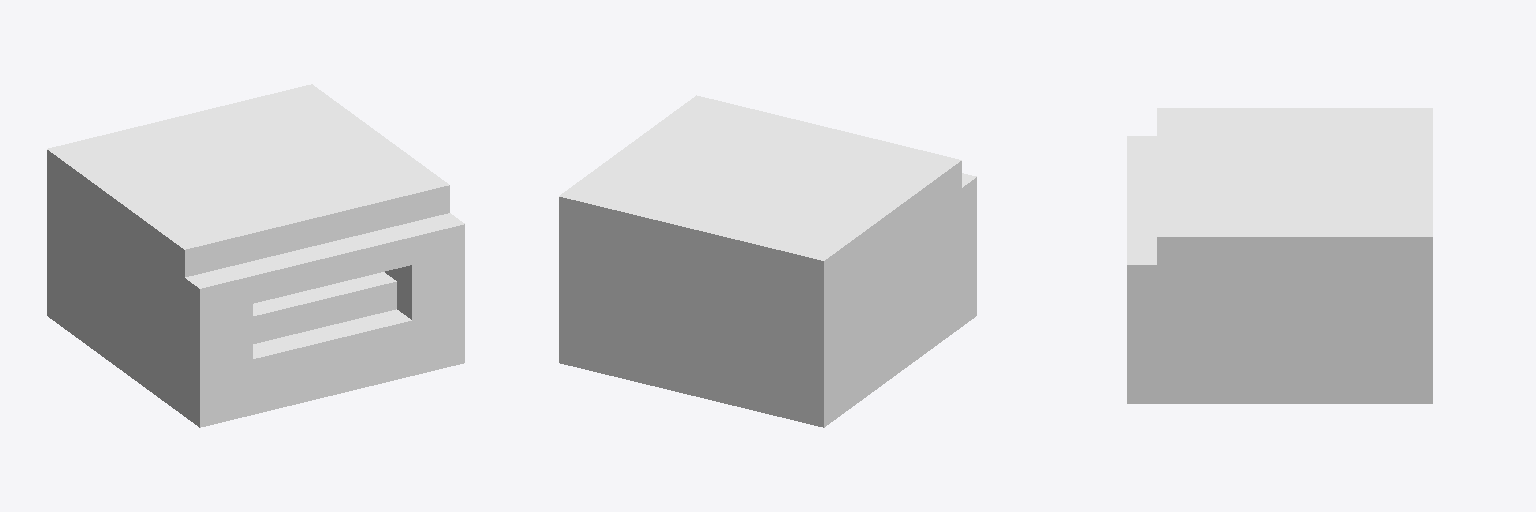
File: Compactor.obj
3 renders of one model, left to right at view 1: azimuth 30°, elevation 25°; view 2: azimuth 150°, elevation 25°; view 3: azimuth 270°, elevation 25°, orthographic.
Parts seen in each view (by area): view 1: Compactor; view 2: Compactor; view 3: Compactor.
Boxes of the visible parts, box(x1,y1,x2,y2) form: Compactor: box(47, 84, 464, 427); Compactor: box(559, 95, 976, 427); Compactor: box(1127, 108, 1432, 403).
Bounding box in the file's own units: 1 × 0.6 × 1.